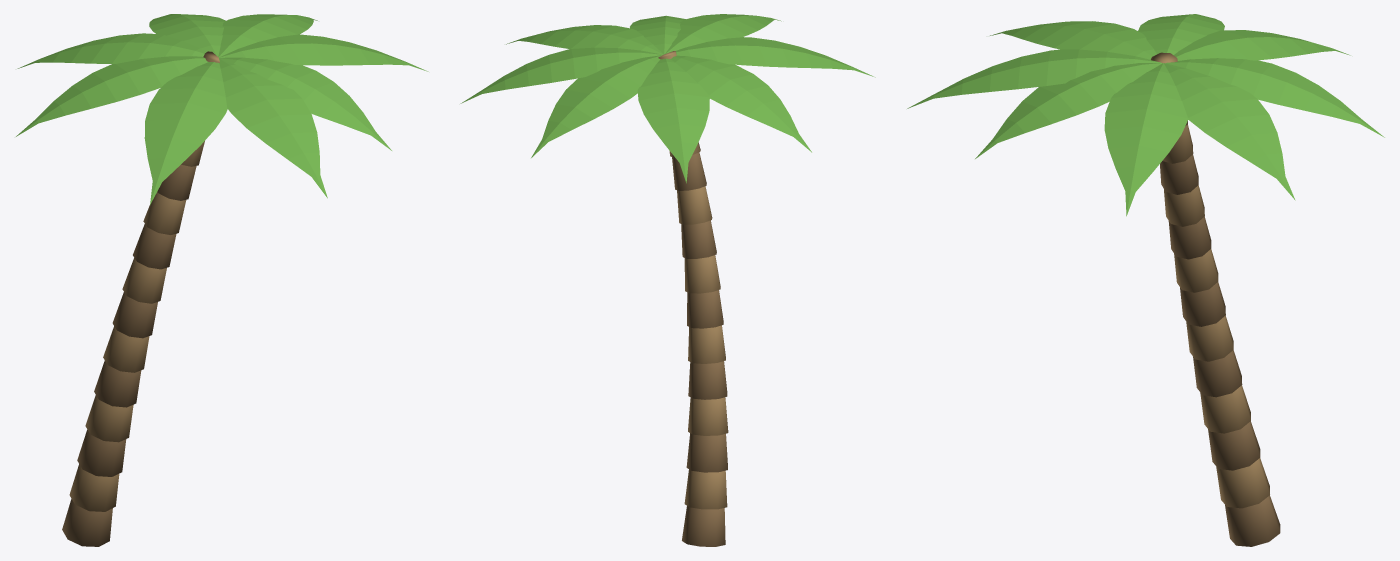
The model's file is cc_arvore_palmeira.glb.
The picture shows the model from 3 angles, left to right: view 1: azimuth 30°, elevation 25°; view 2: azimuth 150°, elevation 25°; view 3: azimuth 270°, elevation 25°; orthographic projection. The views are drawn at different scales.
Visible parts, largest first — view 1: cc_arvore_palmeira_leaf_copa, cc_arvore_palmeira_tree_casca; view 2: cc_arvore_palmeira_leaf_copa, cc_arvore_palmeira_tree_casca; view 3: cc_arvore_palmeira_leaf_copa, cc_arvore_palmeira_tree_casca.
Part boxes in pixels (box(x1,y1,x2,y2)): cc_arvore_palmeira_leaf_copa: box(16, 14, 428, 204); cc_arvore_palmeira_tree_casca: box(62, 51, 219, 546); cc_arvore_palmeira_leaf_copa: box(460, 14, 875, 183); cc_arvore_palmeira_tree_casca: box(658, 51, 728, 546); cc_arvore_palmeira_leaf_copa: box(907, 14, 1384, 216); cc_arvore_palmeira_tree_casca: box(1151, 52, 1280, 546).
Bounding box in the file's own units: 6.05 × 7.55 × 6.25.
